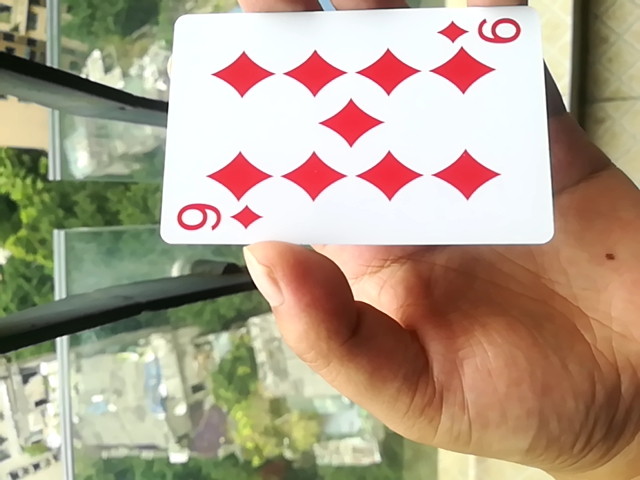fk 9: (152, 3, 561, 254)
